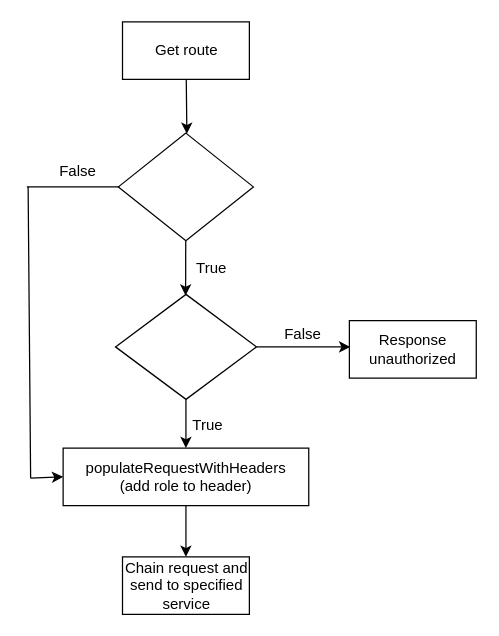
Some shapes in this 499 by 636 pixel diagram are drawn without their labels. The centre of each missing label's shape, as x and y in pixels:
isSecured: (185,186)
isTokenValid: (185,346)
